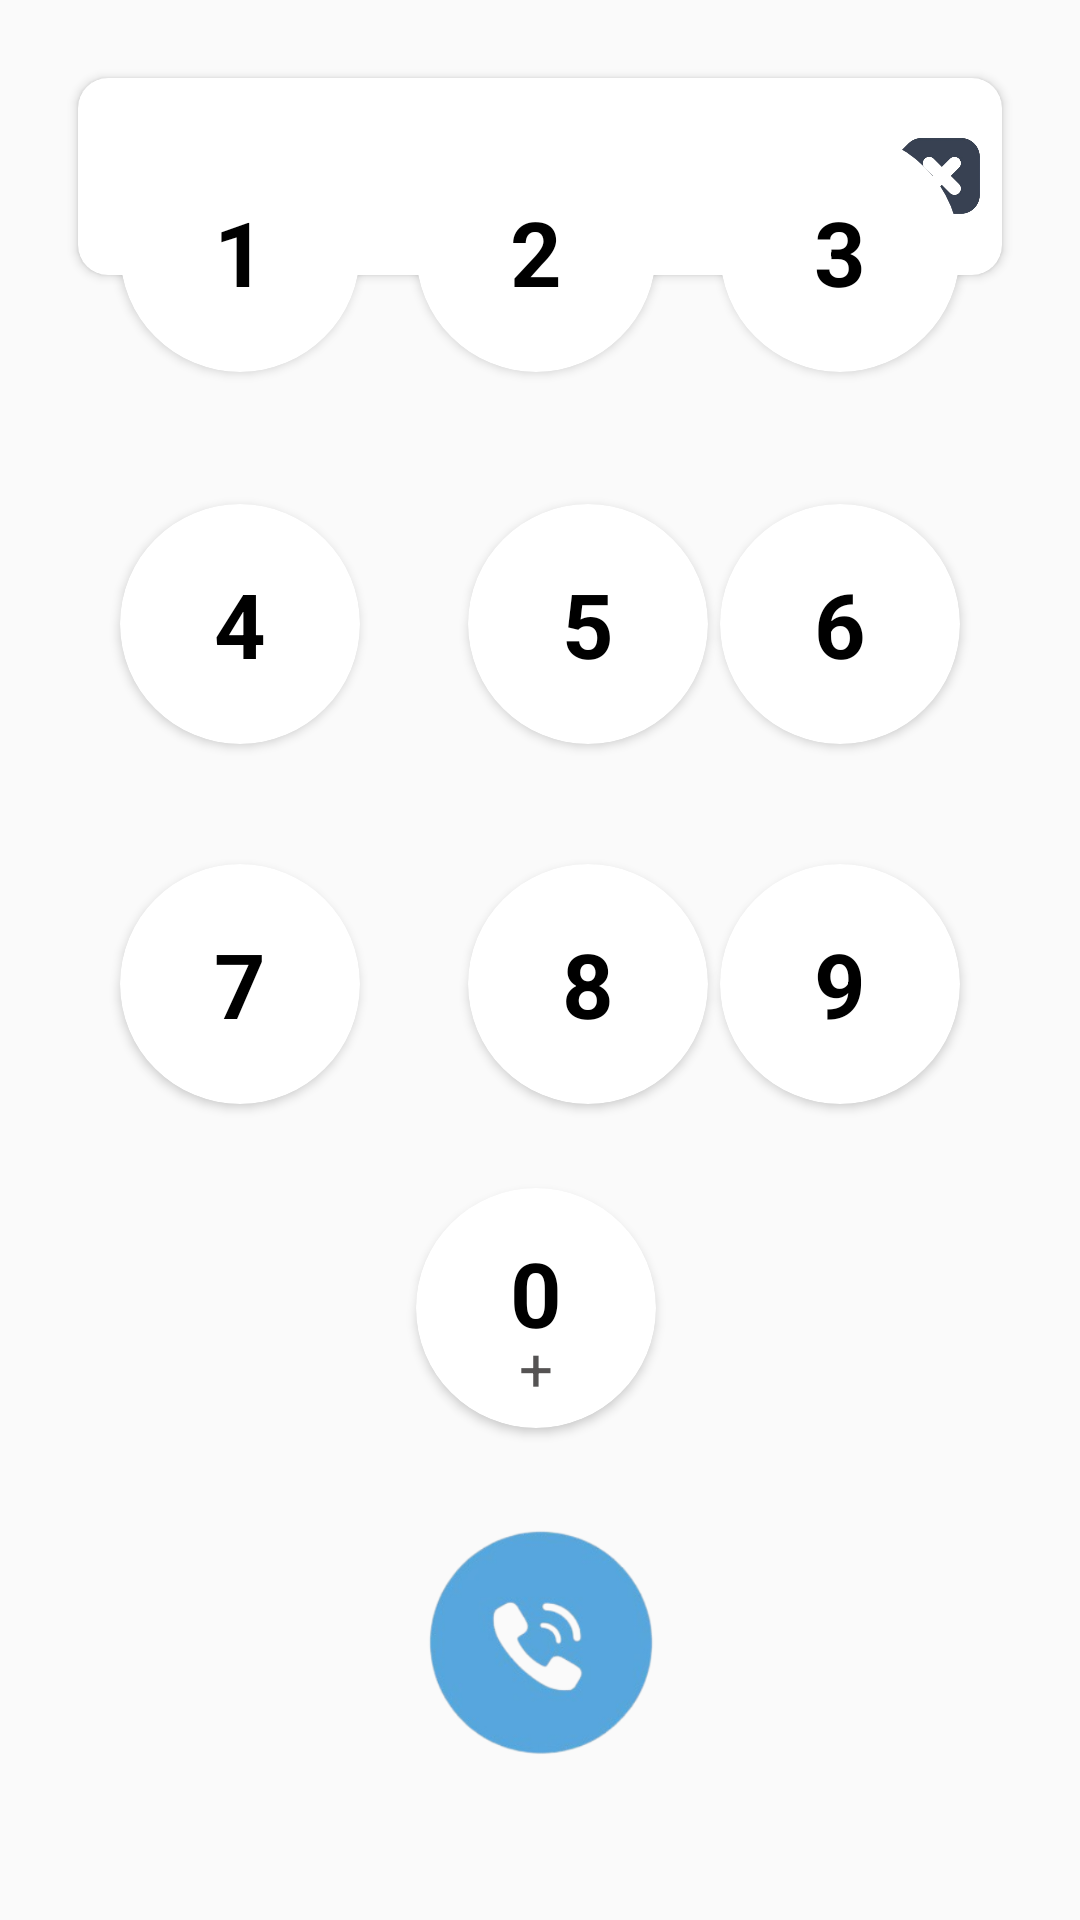

Where icons sit on this 1080 × 1920 app screen, as (x1, y1, x2, y2):
call: (430, 1531, 653, 1754)
